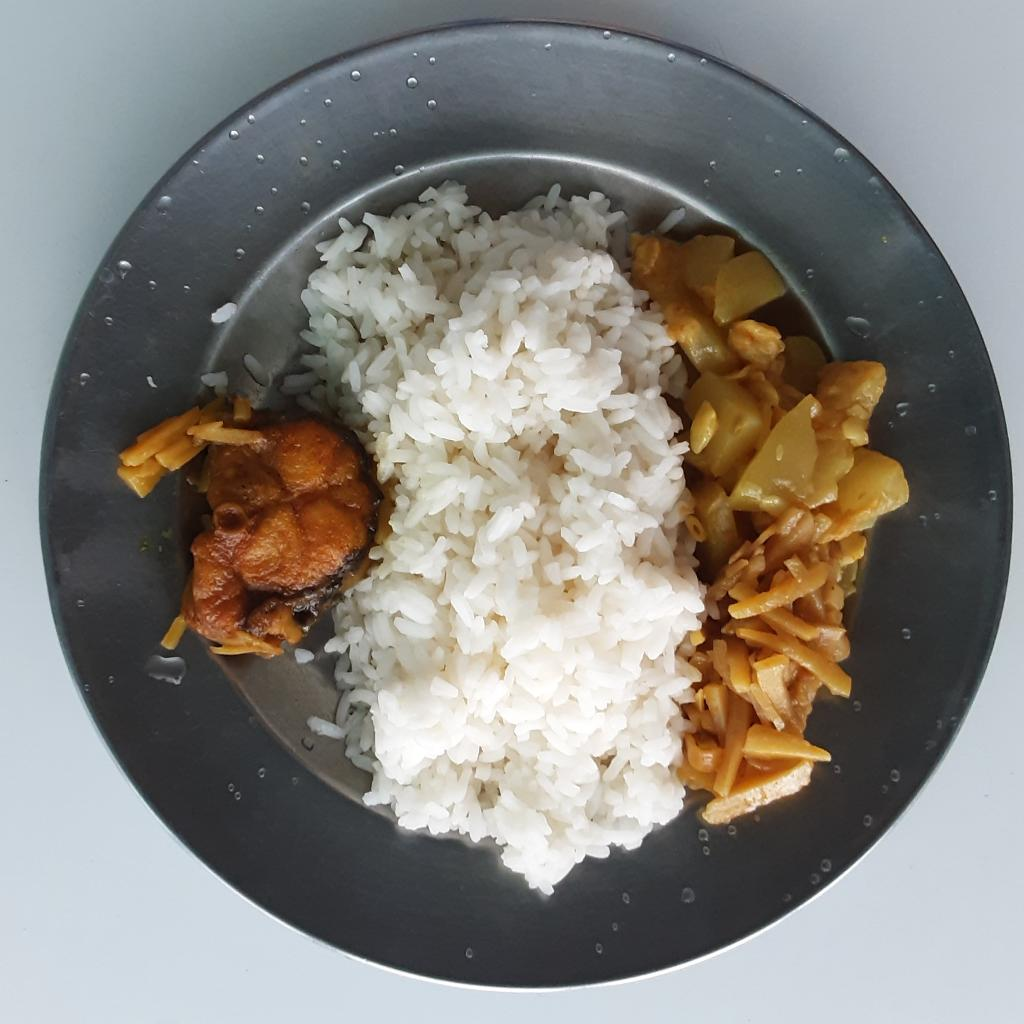fish: (181, 417, 391, 658)
kumra-vaji: (635, 236, 909, 561)
potato: (688, 510, 869, 823), (117, 396, 267, 502)
rice: (276, 181, 704, 901), (197, 366, 232, 391), (660, 207, 686, 236), (243, 351, 266, 377), (207, 305, 234, 327), (253, 377, 264, 388)
